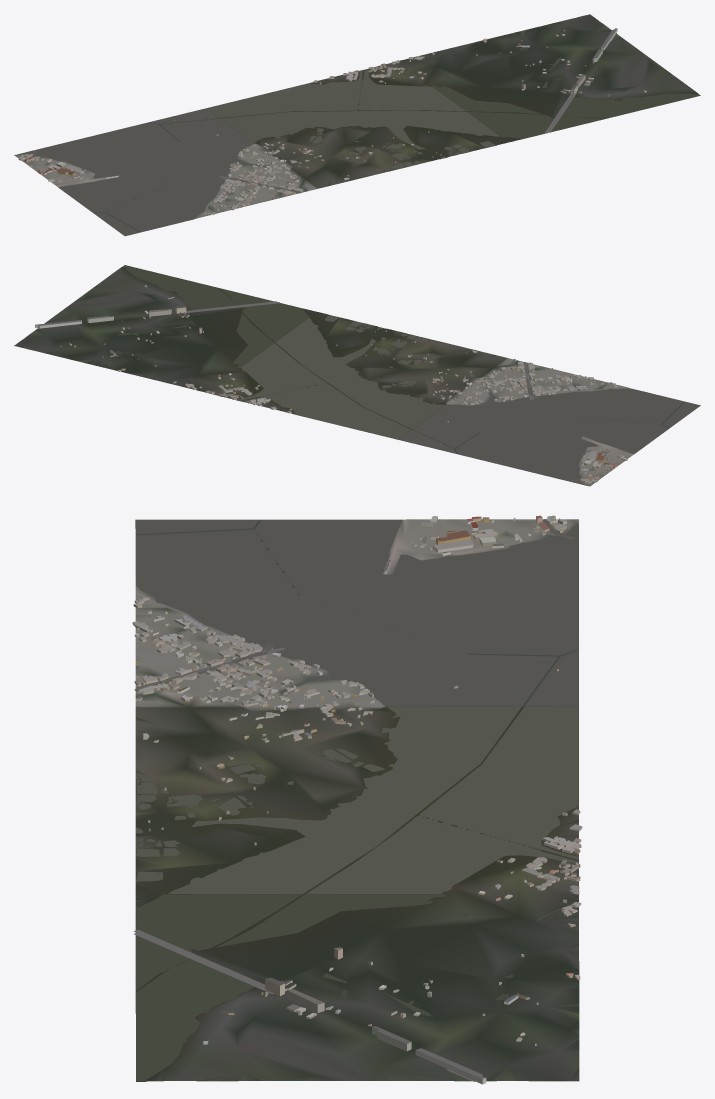
The picture shows the model from 3 angles, top to bottom: view 1: azimuth 30°, elevation 25°; view 2: azimuth 150°, elevation 25°; view 3: azimuth 270°, elevation 25°; orthographic projection. The views are drawn at different scales.
Visible parts, largest first — view 1: water, ground, buildings, roads; view 2: water, ground, buildings, roads; view 3: water, ground, buildings, roads.
Part boxes in pixels (left/top/right/bottom): water: left=18, top=47, right=700, bottom=235; ground: left=14, top=14, right=700, bottom=236; buildings: left=18, top=28, right=646, bottom=215; roads: left=22, top=33, right=616, bottom=193; water: left=116, top=265, right=700, bottom=485; ground: left=14, top=266, right=700, bottom=486; buildings: left=35, top=285, right=627, bottom=483; roads: left=38, top=301, right=598, bottom=481; water: left=135, top=519, right=578, bottom=1081; ground: left=135, top=519, right=579, bottom=1081; buildings: left=132, top=515, right=582, bottom=1084; roads: left=134, top=519, right=575, bottom=1081.
Bounding box in the file's own units: 4236 × 42.15 × 1420.
